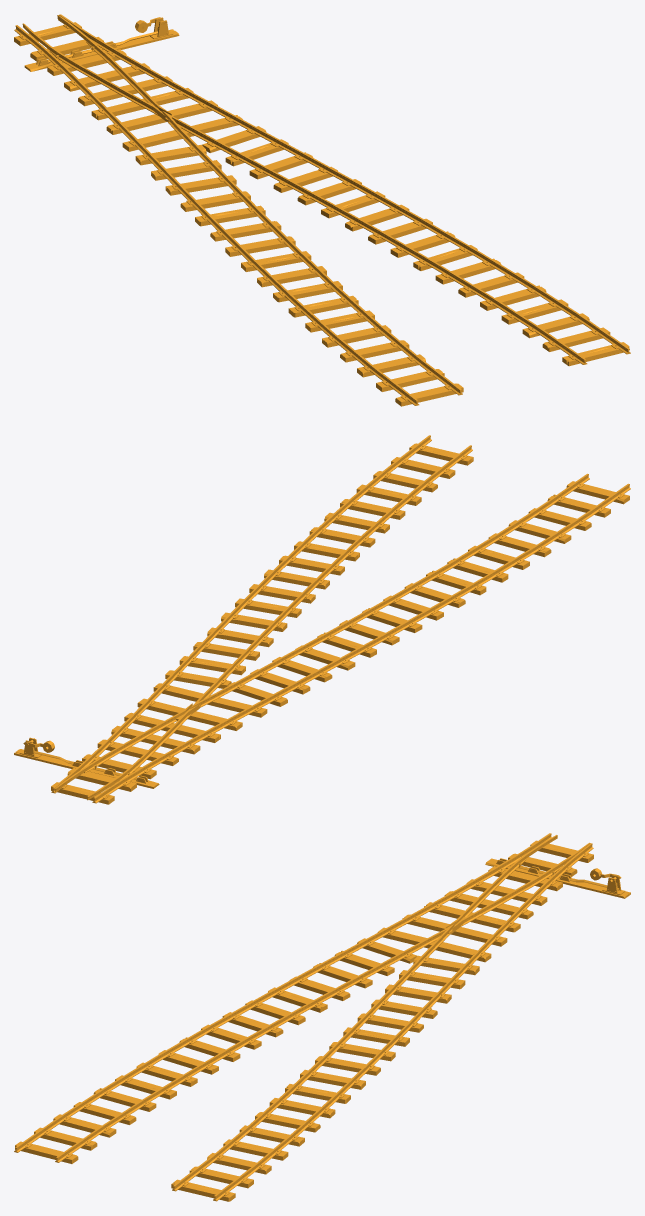
File: SM_Train_Rail_Straight_To_Double_Old.fbx
The picture shows the model from 3 angles, top to bottom: view 1: azimuth 30°, elevation 25°; view 2: azimuth 150°, elevation 25°; view 3: azimuth 330°, elevation 25°; orthographic projection. The views are drawn at different scales.
Visible parts, largest first — view 1: SM_Train_Rail_Straight_To_Double_Old; view 2: SM_Train_Rail_Straight_To_Double_Old; view 3: SM_Train_Rail_Straight_To_Double_Old.
Part boxes in pixels (x1,y1,x2,y2): SM_Train_Rail_Straight_To_Double_Old: (14, 14, 630, 406); SM_Train_Rail_Straight_To_Double_Old: (14, 435, 630, 804); SM_Train_Rail_Straight_To_Double_Old: (14, 833, 630, 1201).
Size of the model in its own units: 8.16 by 0.7199 by 30.
